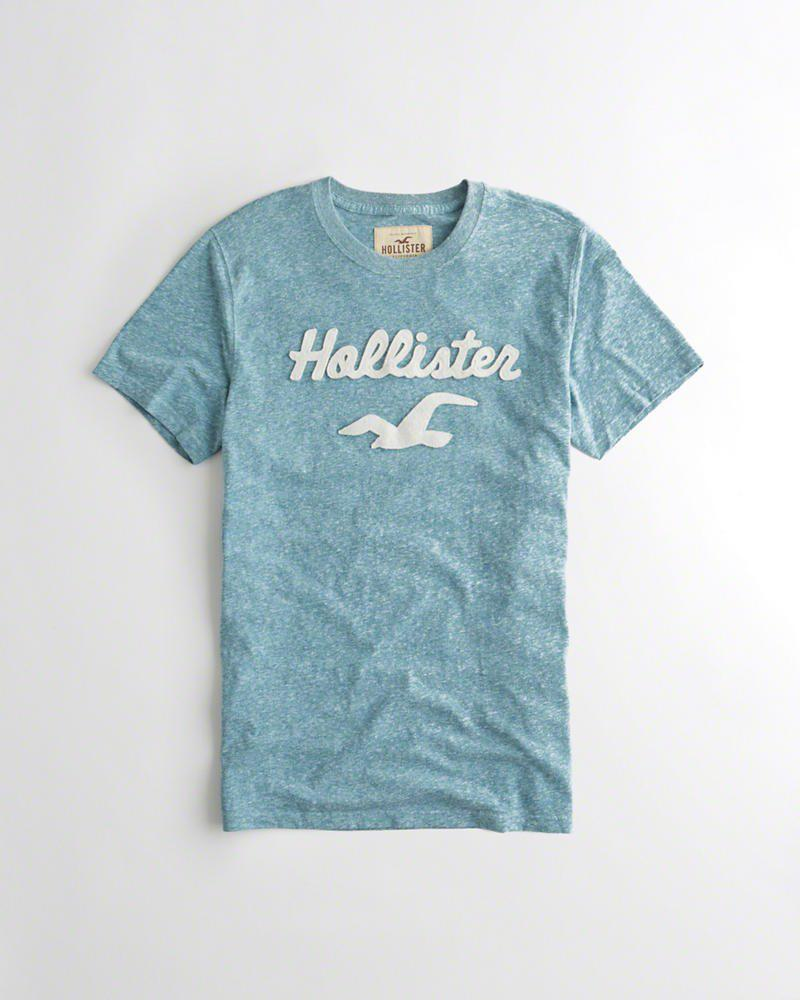teeshirt: (77, 157, 708, 846)
